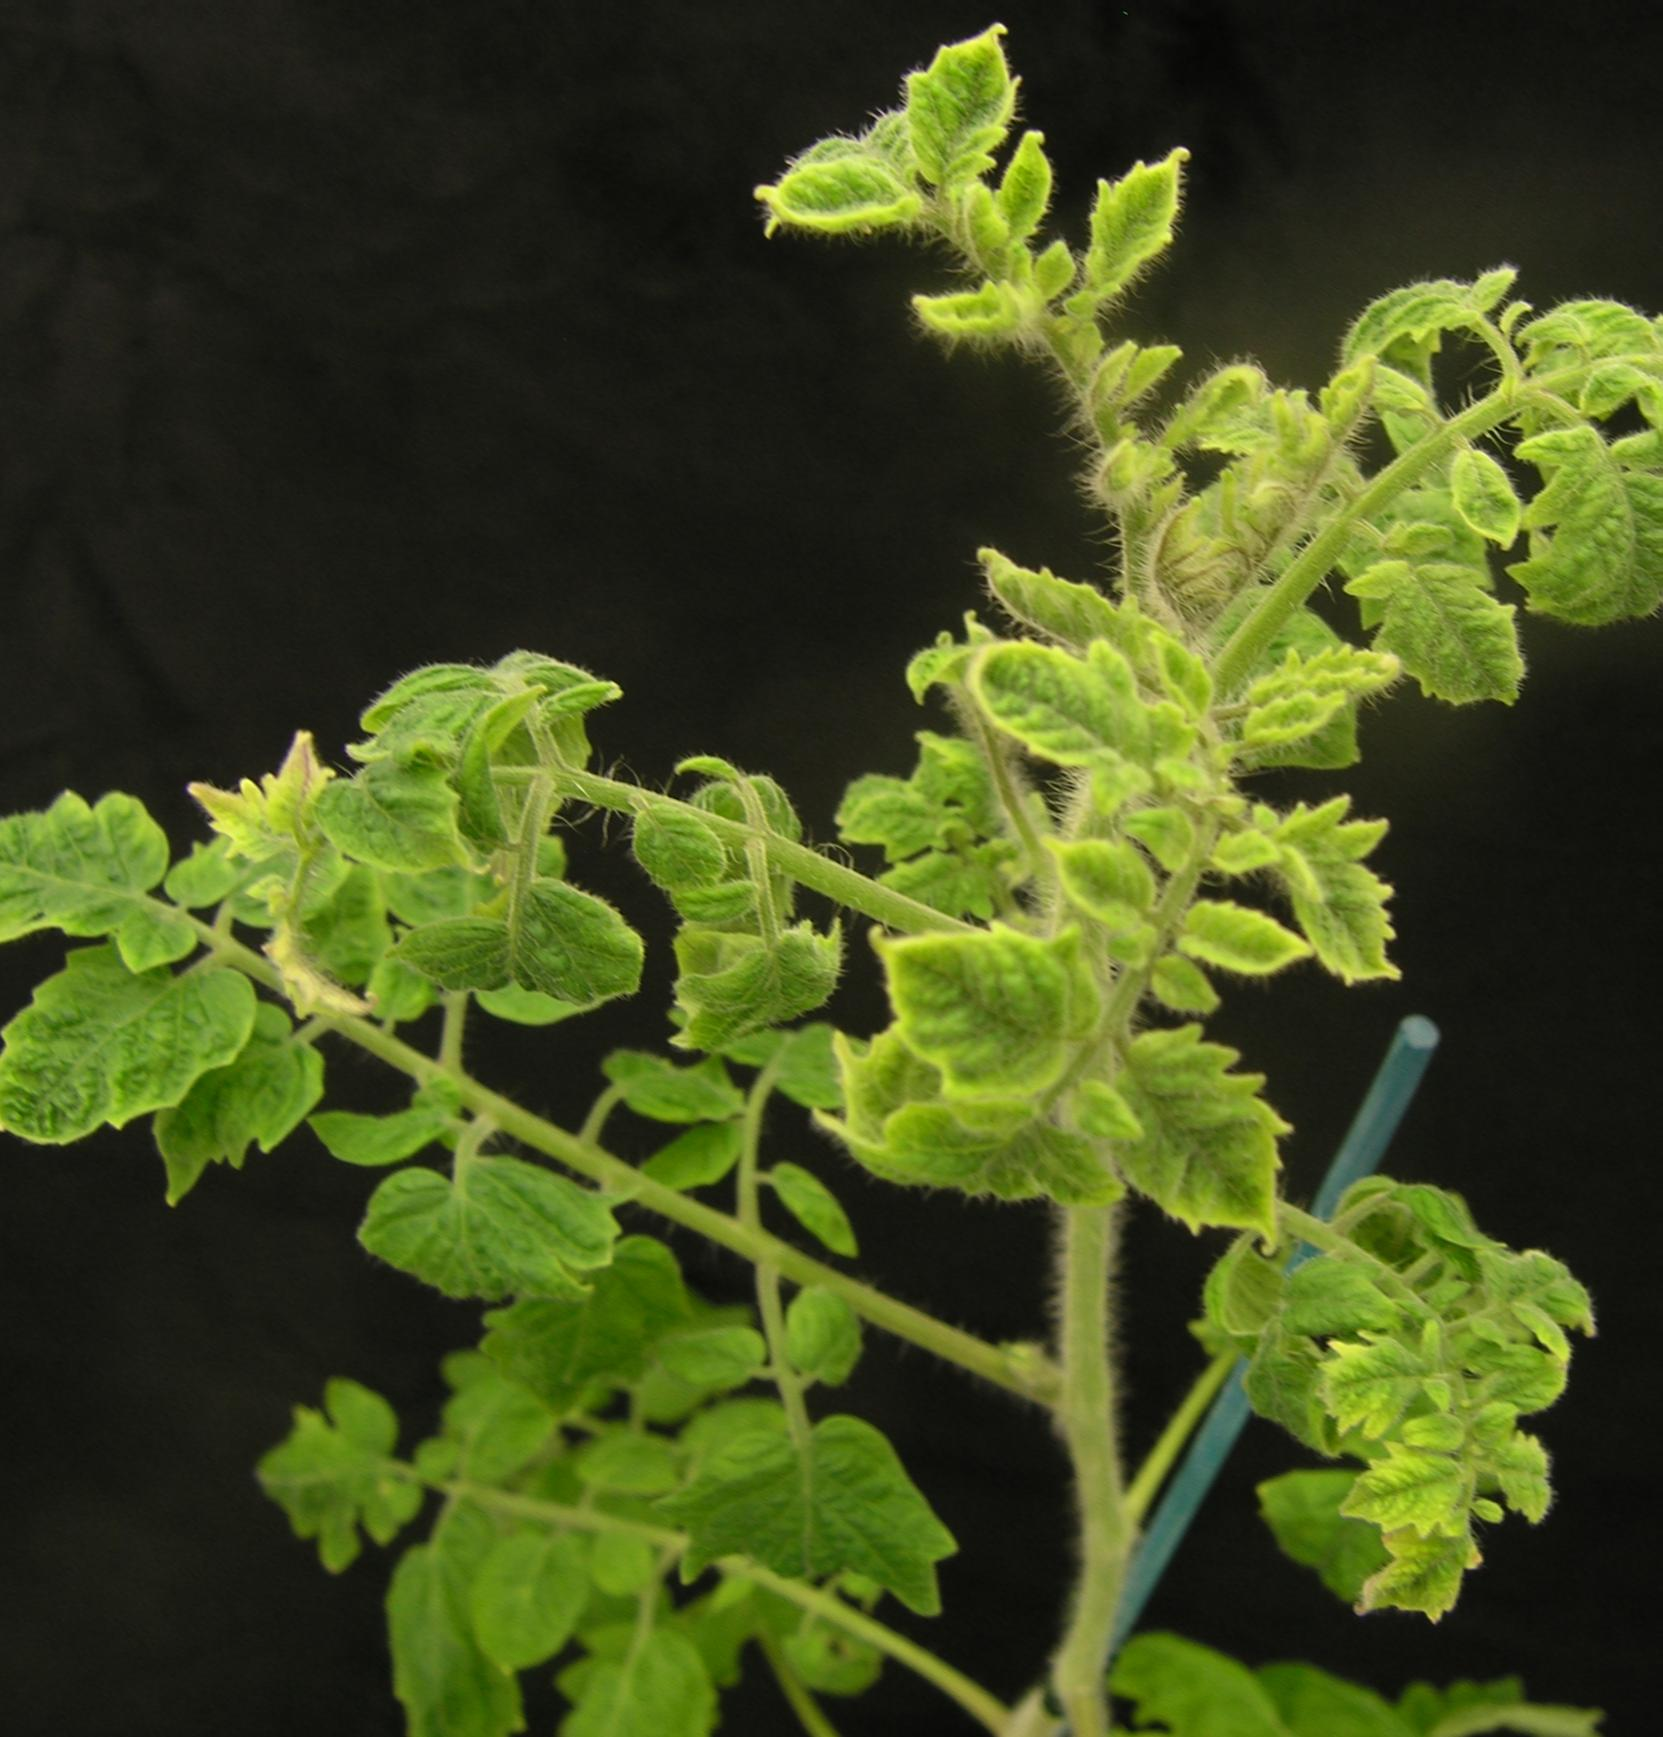Tomato leaf yellow virus: (838, 893, 1105, 1134), (0, 944, 285, 1140), (1122, 1024, 1305, 1266), (0, 769, 189, 988), (1360, 537, 1558, 720), (963, 628, 1181, 779), (1257, 805, 1423, 986), (1514, 406, 1654, 622), (904, 0, 1039, 197), (1343, 1490, 1486, 1650), (732, 136, 917, 243), (1312, 1309, 1466, 1421), (1528, 271, 1663, 377), (1323, 1442, 1474, 1521)
